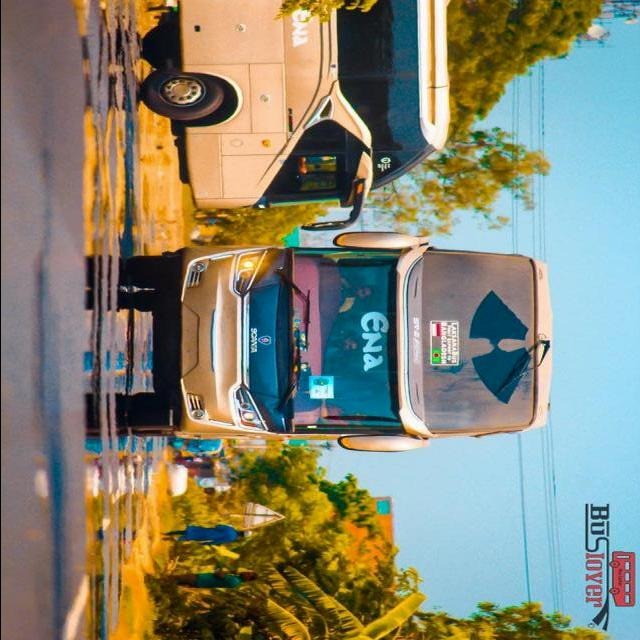bus: (129, 231, 553, 455), (136, 2, 452, 234)
